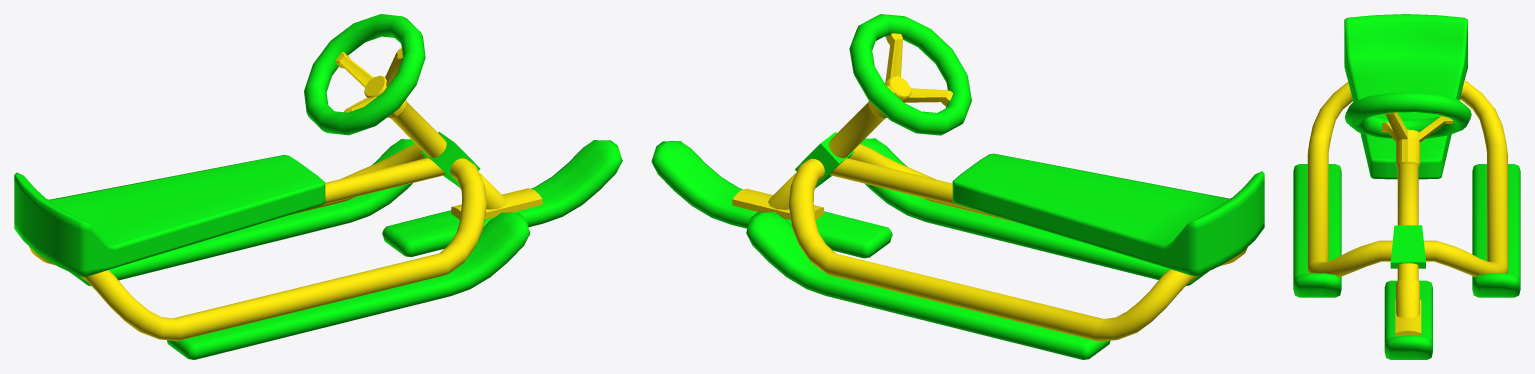
File: ART-MOD-A-SLED-001.FBX
The picture shows the model from 3 angles, left to right: view 1: azimuth 30°, elevation 25°; view 2: azimuth 150°, elevation 25°; view 3: azimuth 270°, elevation 25°; orthographic projection. The views are drawn at different scales.
Visible parts, largest first — view 1: Sled_low; view 2: Sled_low; view 3: Sled_low.
Part boxes in pixels (box(x1,y1,x2,y2)): Sled_low: box(14, 14, 622, 359); Sled_low: box(651, 14, 1264, 359); Sled_low: box(1293, 14, 1520, 359).
Size of the model in its own units: 91.24 by 34.42 by 34.81.
